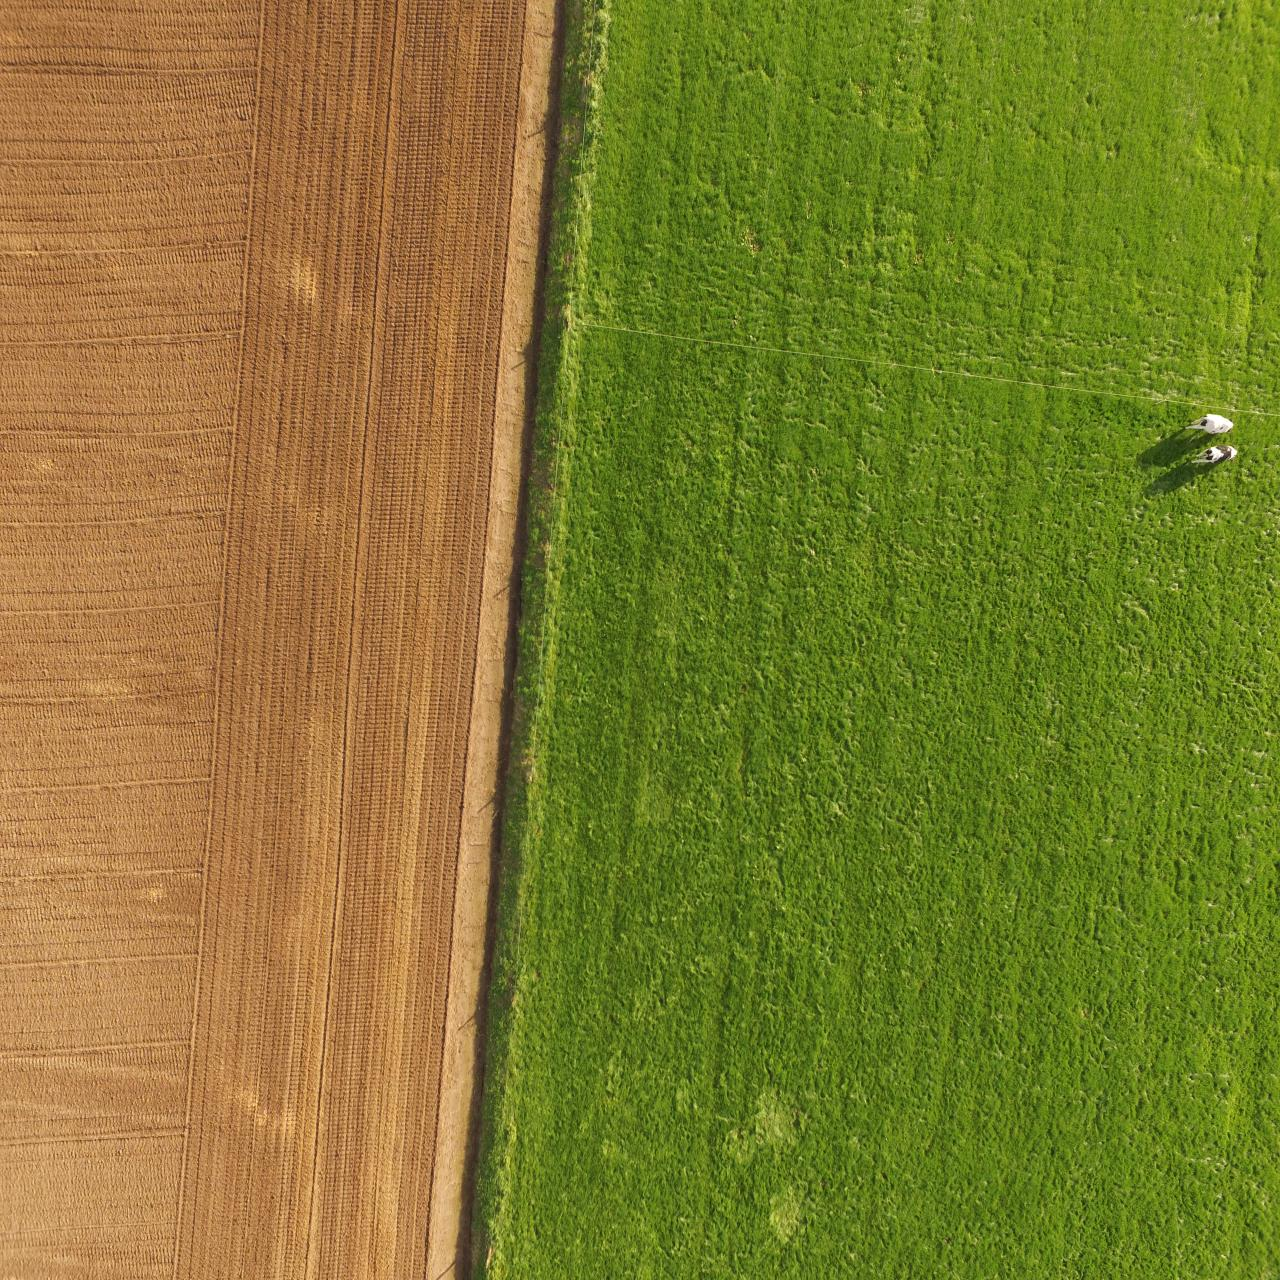cow: (1182, 412, 1234, 434), (1190, 443, 1238, 466)
